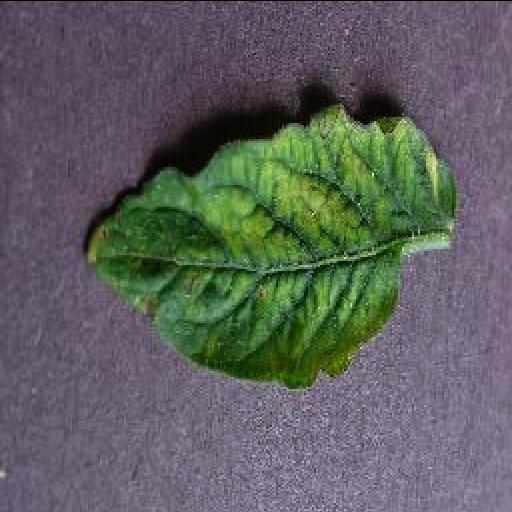Mosaic Virus: (82, 98, 456, 396)
